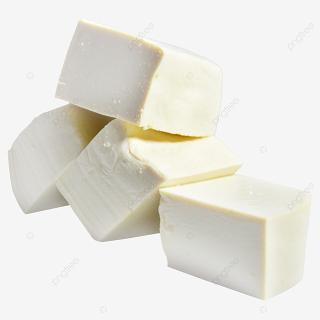Tahu: (4, 88, 247, 258), (154, 169, 316, 306), (56, 15, 228, 143)
